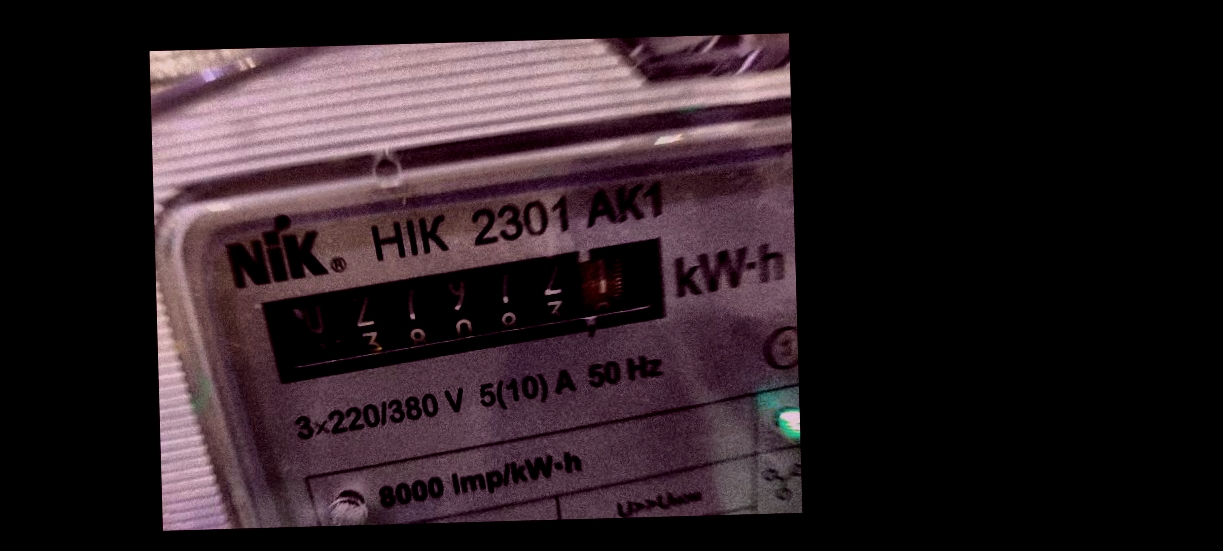0: (300, 298, 329, 335)
1: (592, 253, 615, 297)
2: (349, 288, 379, 328), (538, 259, 567, 296)
7: (491, 265, 518, 307), (398, 284, 422, 321)
9: (445, 275, 472, 311)
screen: (244, 227, 700, 394)
